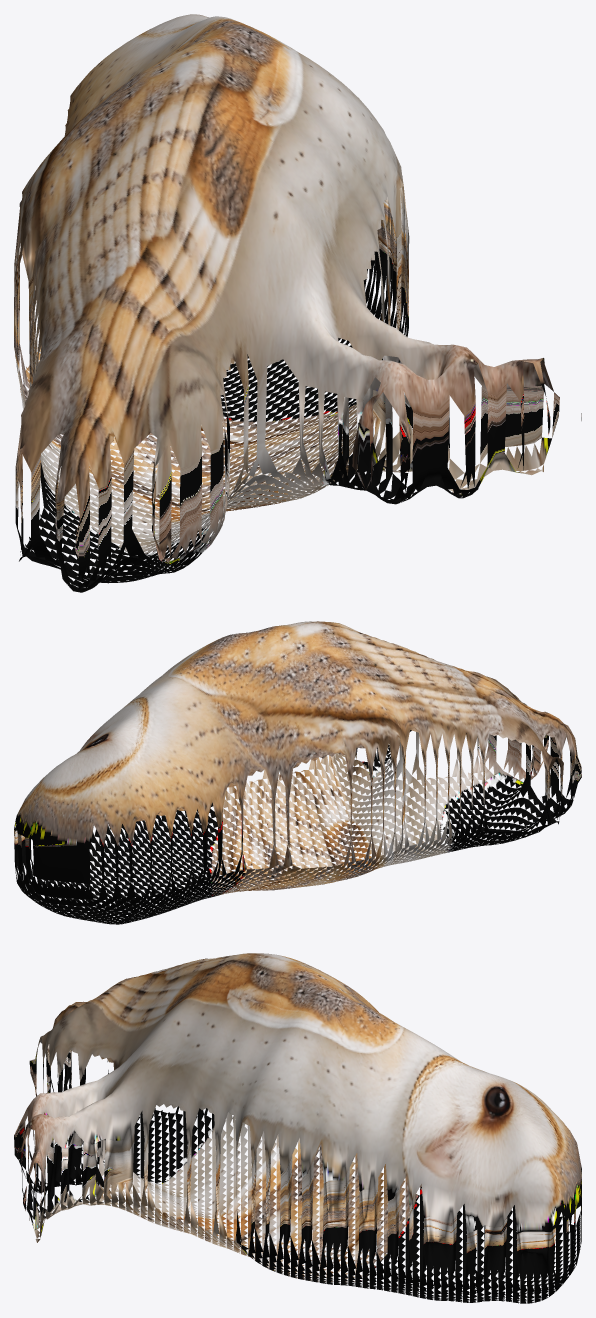
Rendered from owl.glb.
The picture shows the model from 3 angles, top to bottom: view 1: azimuth 30°, elevation 25°; view 2: azimuth 150°, elevation 25°; view 3: azimuth 270°, elevation 25°; orthographic projection. The views are drawn at different scales.
Parts seen in each view (by area): view 1: owl_obj; view 2: owl_obj; view 3: owl_obj.
Boxes of the visible parts, <box> form: owl_obj: <box>14,14,581,592</box>; owl_obj: <box>14,621,581,924</box>; owl_obj: <box>14,953,581,1303</box>.
Bounding box in the file's own units: 1.35 × 0.9496 × 1.65.
Materials: 1 (1 with a texture image).
